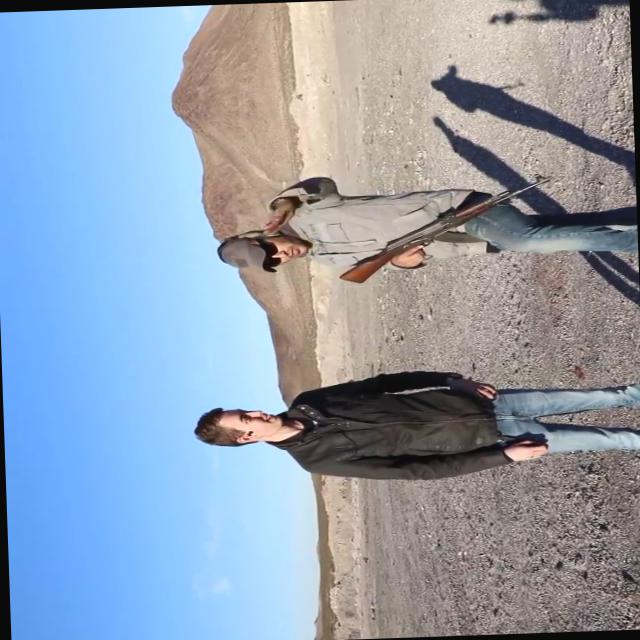long weapon: (318, 161, 578, 289)
